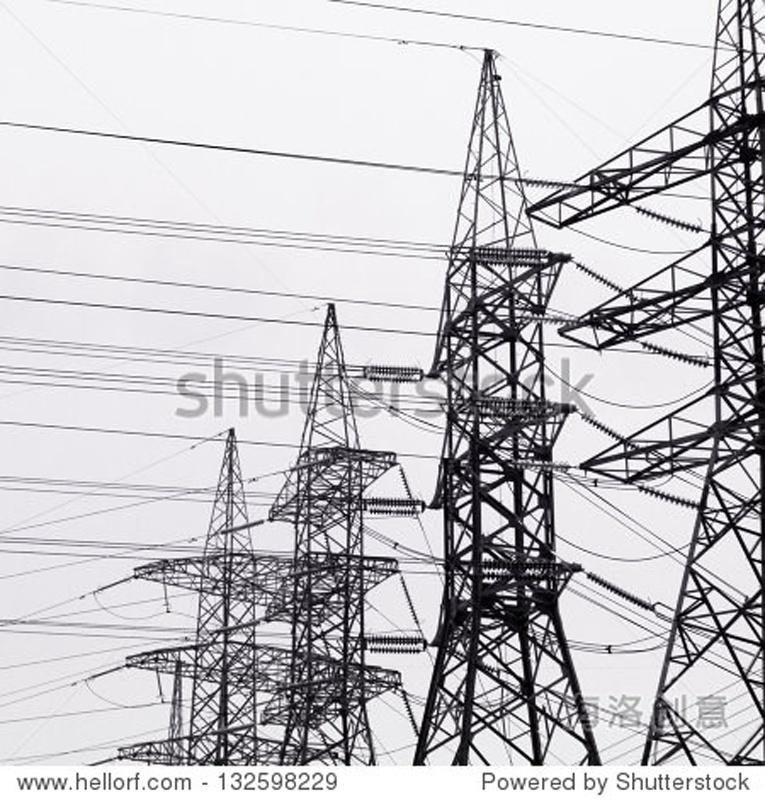power_tower: (414, 47, 589, 735), (630, 49, 759, 760), (272, 308, 404, 735), (171, 384, 275, 735)
